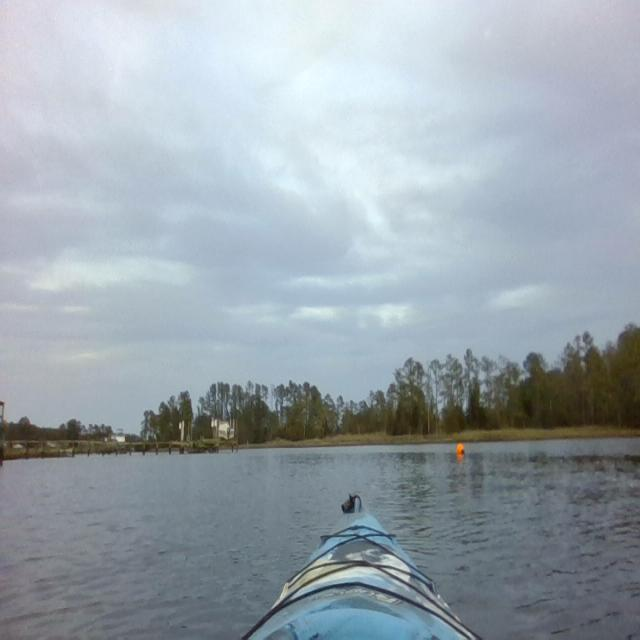Buoy: (456, 441, 466, 457)
